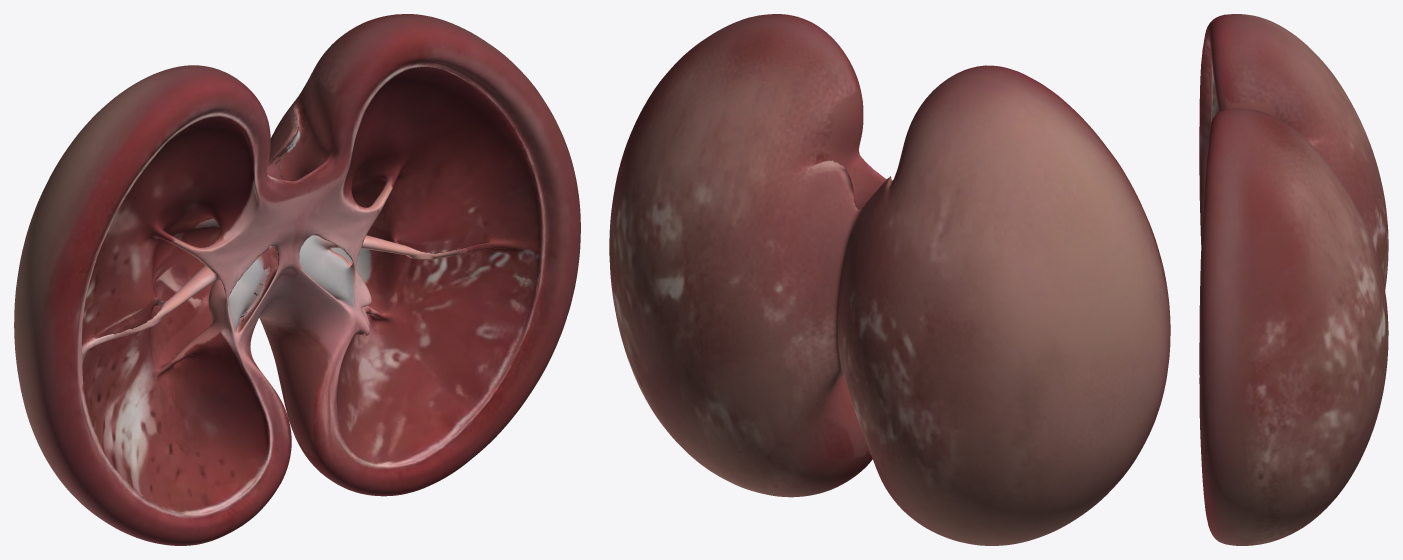
Rendered from vet_v2_path_kidney-stone.glb.
3 renders of one model, left to right at view 1: azimuth 30°, elevation 25°; view 2: azimuth 150°, elevation 25°; view 3: azimuth 270°, elevation 25°, orthographic. The views are drawn at different scales.
Visible parts, largest first — view 1: model; view 2: model; view 3: model.
Boxes of the visible parts, left/top/right/bottom form: model: left=14, top=14, right=580, bottom=545; model: left=609, top=14, right=1170, bottom=545; model: left=1199, top=14, right=1388, bottom=545.
Bounding box in the file's own units: 1.9 × 1.57 × 0.6364.
1 material, 1 textured.
